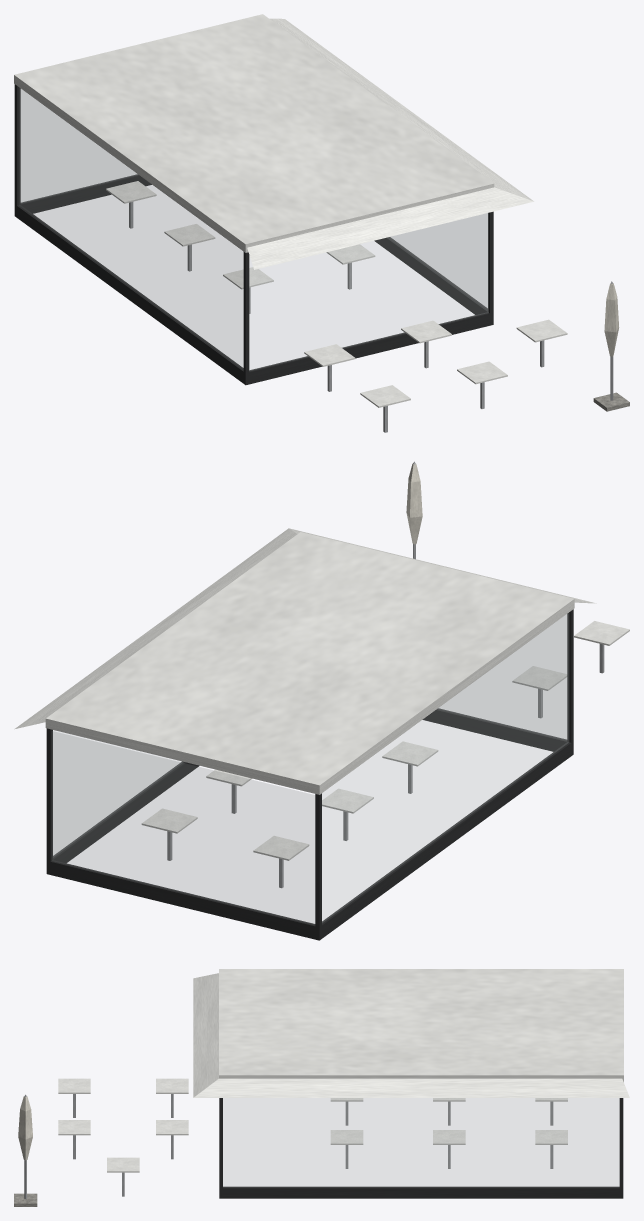
File: SM_Molo_DehorsVetrato_v2_LOD2.fbx
3 renders of one model, top to bottom at view 1: azimuth 30°, elevation 25°; view 2: azimuth 150°, elevation 25°; view 3: azimuth 270°, elevation 25°, orthographic. The views are drawn at different scales.
Visible parts, largest first — view 1: SM_Molo_DehorsVetrato_v2_LOD2; view 2: SM_Molo_DehorsVetrato_v2_LOD2; view 3: SM_Molo_DehorsVetrato_v2_LOD2.
Part boxes in pixels (x1,y1,x2,y2): SM_Molo_DehorsVetrato_v2_LOD2: [14, 14, 629, 432]; SM_Molo_DehorsVetrato_v2_LOD2: [14, 461, 629, 940]; SM_Molo_DehorsVetrato_v2_LOD2: [14, 969, 629, 1206].
Bounding box in the file's own units: 608 × 1323 × 293.
Materials: 2 (1 with a texture image).
